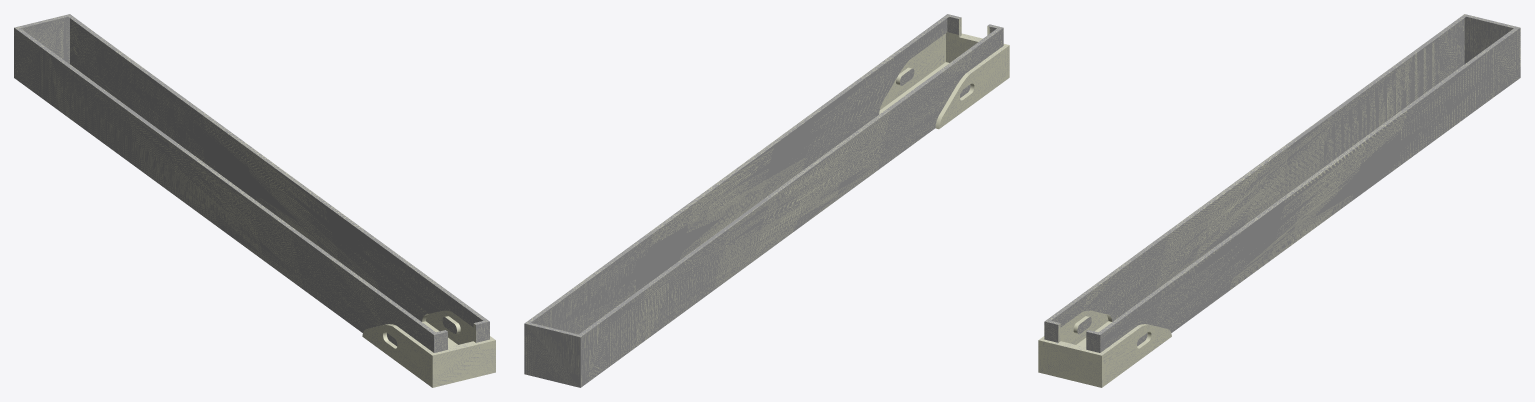
Rendered from original-2.obj.
The picture shows the model from 3 angles, left to right: view 1: azimuth 30°, elevation 25°; view 2: azimuth 150°, elevation 25°; view 3: azimuth 330°, elevation 25°; orthographic projection.
Visible parts, largest first — view 1: Group3/mesh3/mesh3-geometry#mesh3-geometry; view 2: Group3/mesh3/mesh3-geometry#mesh3-geometry; view 3: Group3/mesh3/mesh3-geometry#mesh3-geometry.
Boxes of the visible parts, x1,y1,x2,y2 form: Group3/mesh3/mesh3-geometry#mesh3-geometry: [14, 14, 495, 387]; Group3/mesh3/mesh3-geometry#mesh3-geometry: [524, 14, 1009, 387]; Group3/mesh3/mesh3-geometry#mesh3-geometry: [1038, 14, 1520, 387].
Size of the model in its own units: 0.1185 by 0.0898 by 1.37.
